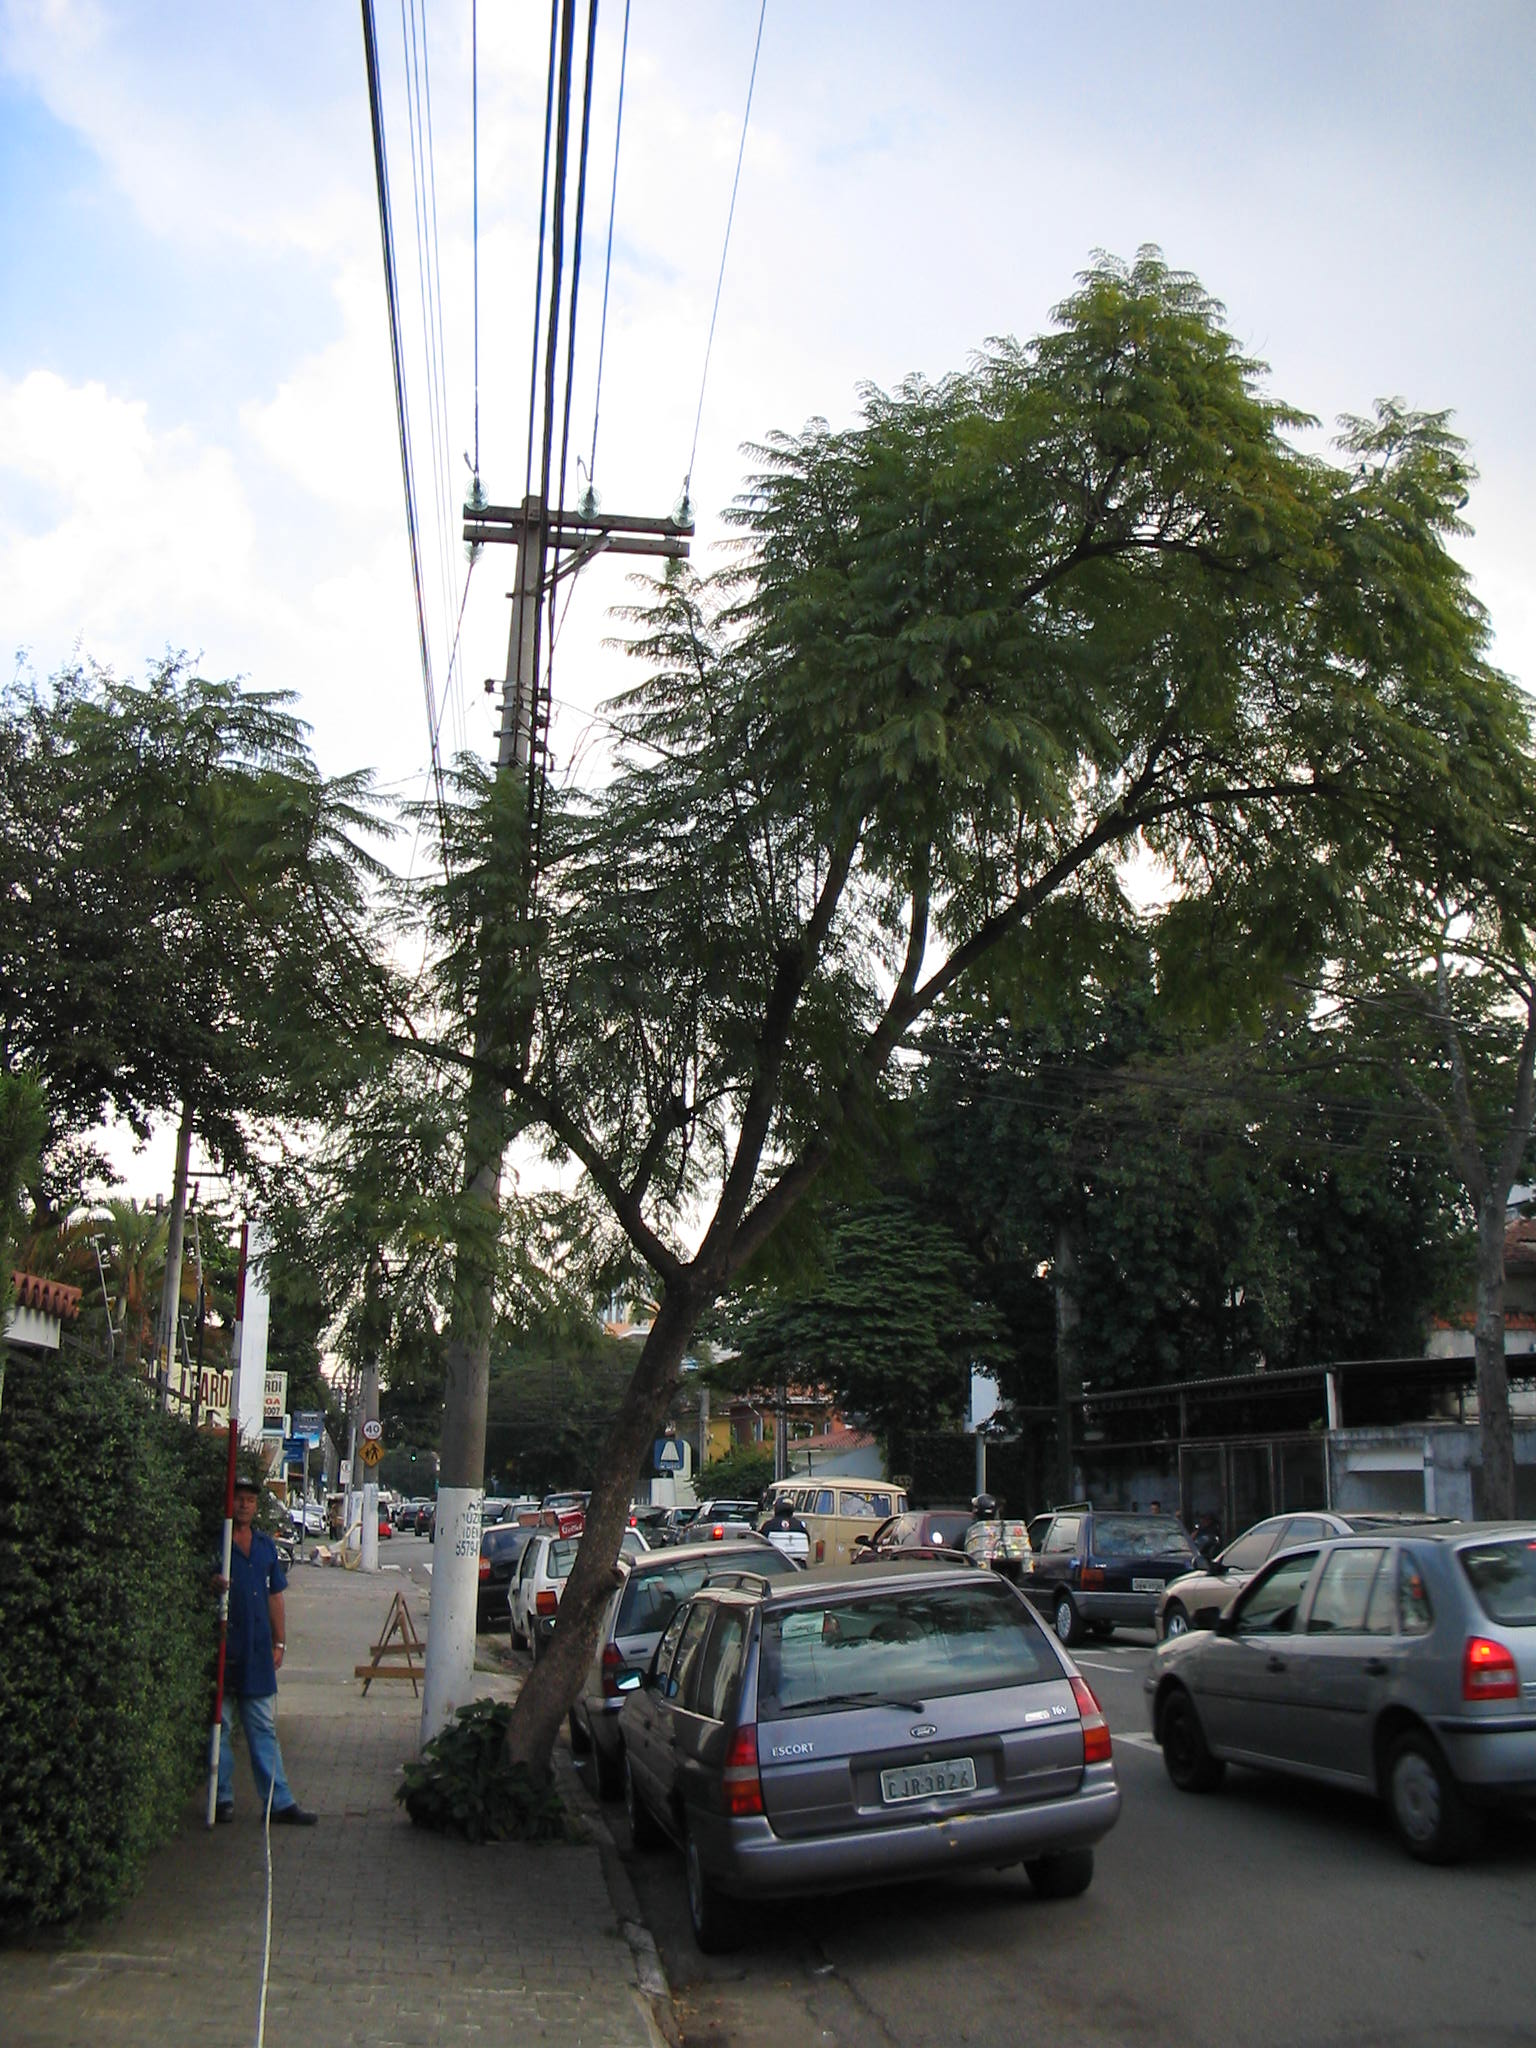crown: (16, 248, 1526, 1188)
stem: (490, 1305, 712, 1811), (1446, 1205, 1526, 1551)
stick: (186, 1227, 263, 1825)
tree: (8, 247, 1526, 1811)
